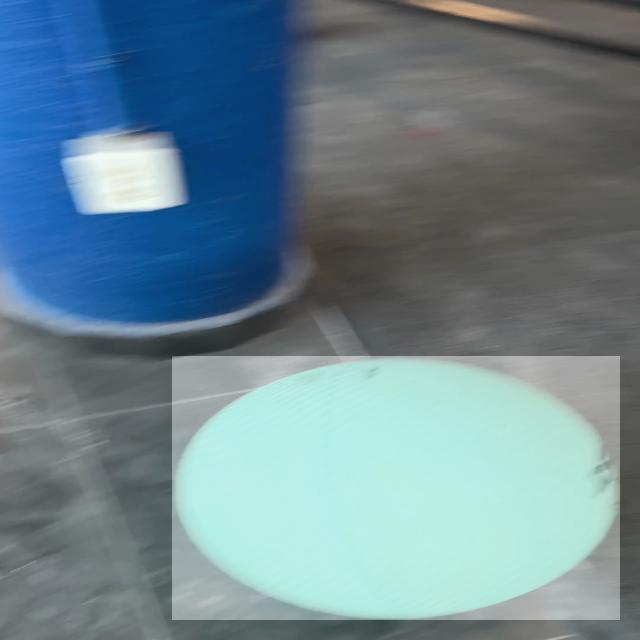Algae: (172, 356, 620, 620)
